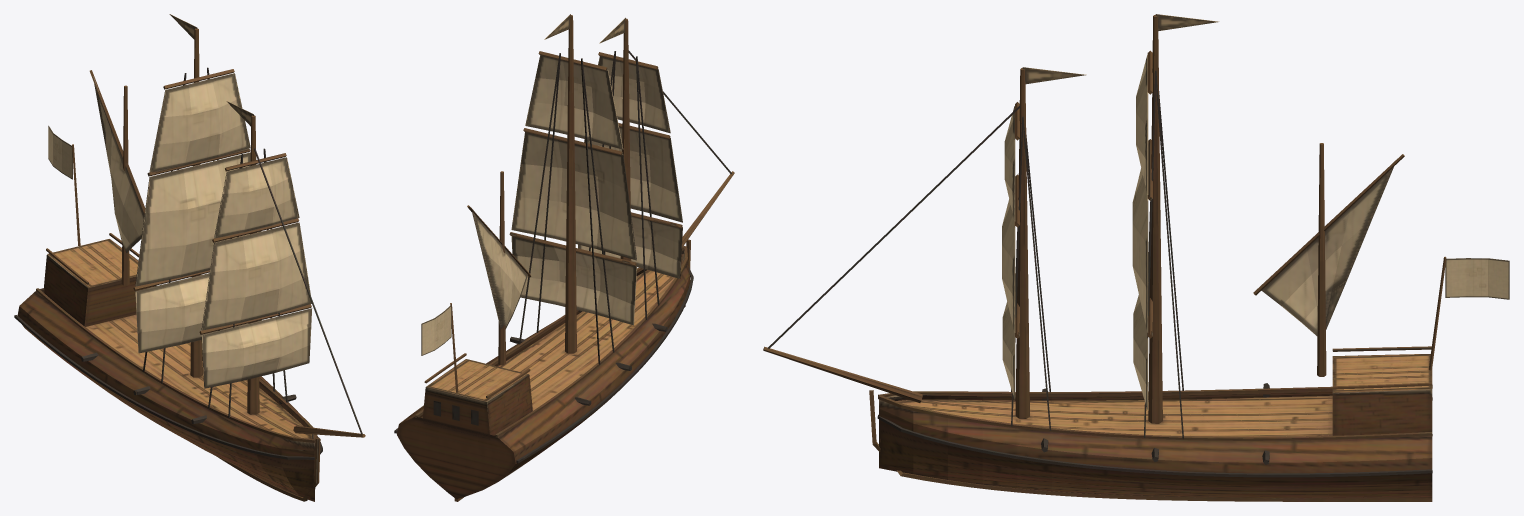
Rendered from Fluyt.fbx.
The picture shows the model from 3 angles, left to right: view 1: azimuth 30°, elevation 25°; view 2: azimuth 150°, elevation 25°; view 3: azimuth 270°, elevation 25°; orthographic projection. The views are drawn at different scales.
Visible parts, largest first — view 1: Hull, Sail1_2, Sail0_2, Sail1_3, Sail0_1, Deck, Sail0_3, Sail1_1, SternCastle0, Sail_Lateen, SternCastle0_Deck, Wale_S (+10 smaller); view 2: Hull, Sail1_2, Deck, Sail1_1, Sail1_3, SternCastle0, Sail0_2, Mast1, Sail0_3, Sail_Lateen, Sail0_1, SternCastle0_Deck (+15 smaller); view 3: Hull, Deck, Sail_Lateen, SternCastle0, Mast1, SternCastle0_Deck, Mast0, Keel, Wale_P, Ensign, Rail_P, Sail1_2 (+11 smaller).
Boxes of the visible parts, x1,y1,x2,y2 form: Hull: [17, 288, 318, 501]; Sail1_2: [135, 152, 261, 286]; Sail0_2: [201, 222, 311, 330]; Sail1_3: [149, 73, 250, 172]; Sail0_1: [201, 308, 312, 388]; Deck: [85, 314, 312, 438]; Sail0_3: [214, 157, 299, 238]; Sail1_1: [135, 273, 261, 353]; SternCastle0: [44, 239, 154, 326]; Sail_Lateen: [93, 76, 144, 252]; SternCastle0_Deck: [48, 239, 138, 287]; Wale_S: [14, 315, 314, 459]; Hull: [397, 250, 690, 498]; Sail1_2: [511, 132, 636, 260]; Deck: [498, 253, 683, 410]; Sail1_1: [511, 236, 636, 325]; Sail1_3: [525, 55, 623, 149]; SternCastle0: [422, 359, 532, 439]; Sail0_2: [584, 127, 682, 222]; Mast1: [565, 15, 576, 353]; Sail0_3: [598, 56, 670, 133]; Sail_Lateen: [471, 207, 527, 328]; Sail0_1: [578, 216, 682, 278]; SternCastle0_Deck: [426, 359, 528, 401]; Hull: [879, 391, 1432, 498]; Deck: [896, 395, 1332, 436]; Sail_Lateen: [1261, 160, 1395, 335]; SternCastle0: [1332, 354, 1432, 435]; Mast1: [1148, 15, 1162, 423]; SternCastle0_Deck: [1332, 354, 1432, 392]; Mast0: [1015, 68, 1029, 418]; Keel: [869, 390, 1432, 501]; Wale_P: [877, 415, 1432, 477]; Ensign: [1445, 258, 1509, 299]; Rail_P: [878, 395, 1432, 440]; Sail1_2: [1132, 168, 1148, 332].
Bounding box in the file's own units: 8.53 × 25.24 × 35.06.
Materials: 1 (1 with a texture image).
